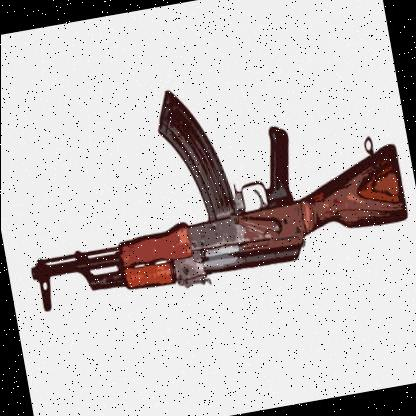rifle: (9, 44, 416, 336)
